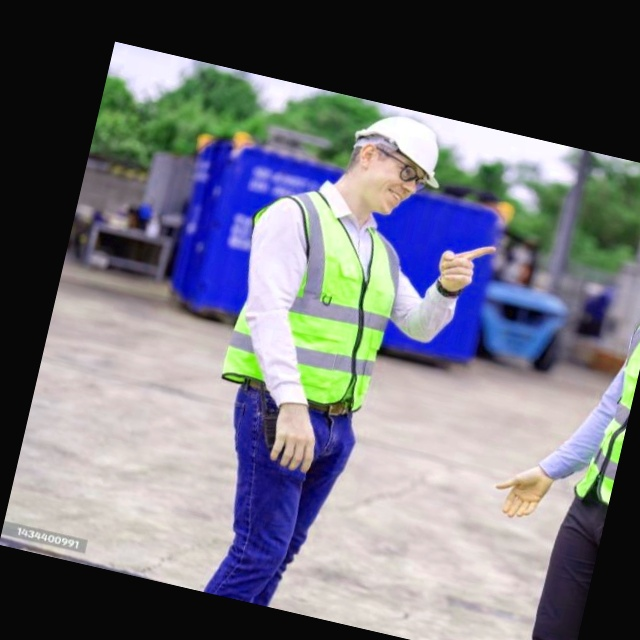Con_Casco: (338, 106, 452, 229)
Con_Chaleco: (219, 179, 416, 424)
